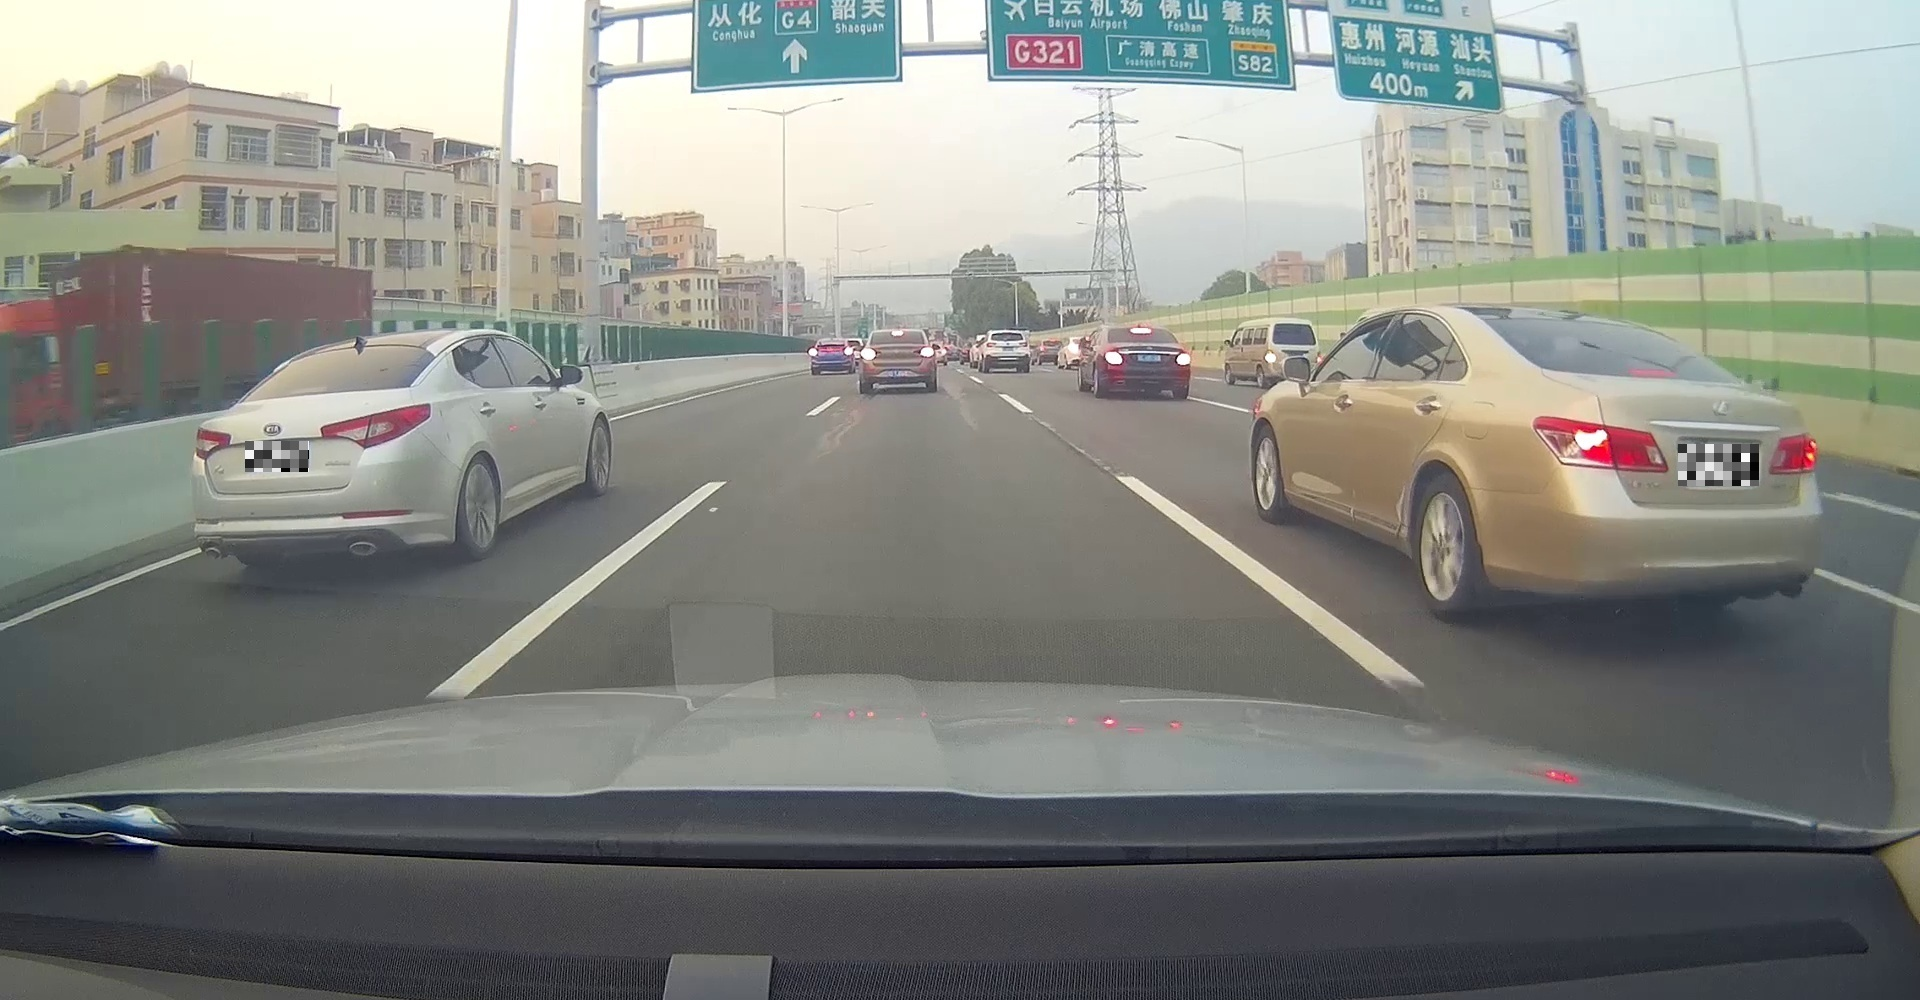L_light: (1531, 415, 1669, 473), (196, 426, 232, 461), (1103, 350, 1123, 365), (860, 346, 876, 360)
R_light: (320, 404, 430, 449), (1768, 430, 1818, 475), (1175, 352, 1191, 365), (919, 346, 935, 358)
T_light: (1628, 368, 1677, 379), (288, 385, 328, 397), (1129, 327, 1152, 335), (891, 330, 904, 338)
day-brake: (1451, 301, 1823, 623), (1098, 324, 1191, 398), (858, 329, 937, 392)
day-no: (190, 332, 448, 571)
plate_1: (245, 442, 309, 472)
plate_2: (1677, 444, 1759, 486)
